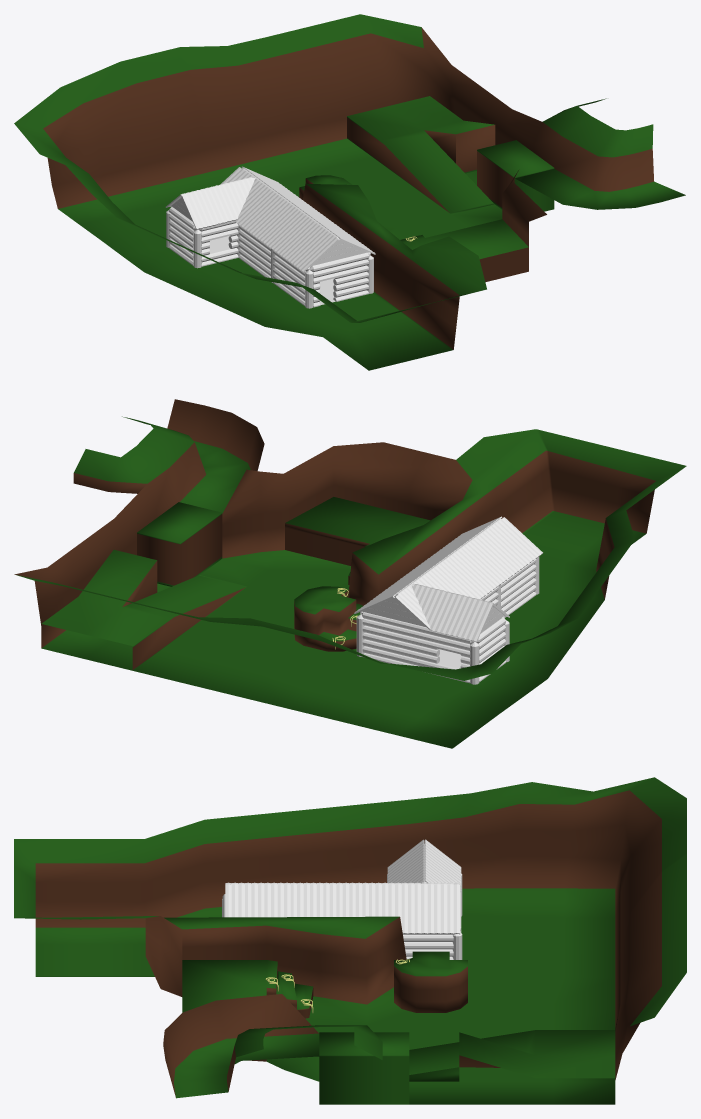
File: Lvl1_Map.fbx
The picture shows the model from 3 angles, top to bottom: view 1: azimuth 30°, elevation 25°; view 2: azimuth 150°, elevation 25°; view 3: azimuth 270°, elevation 25°; orthographic projection. The views are drawn at different scales.
Parts seen in each view (by area): view 1: Plane, Plane.002, Cube.002, Plane.003, Cube.020, Cube.003, Plane.001; view 2: Plane, Plane.002, Plane.003, Cube.002, Plane.004, Cube.026, Cube.003, Cylinder.040, Cylinder.034, Cylinder.049, Cylinder.022, Cylinder.028 (+1 smaller); view 3: Plane, Plane.002, Cube.003, Plane.003, Plane.004, Cube.026, Cube.020.
Boxes of the visible parts, x1,y1,x2,y2 form: Plane: (14,14,685,370); Plane.002: (347,96,554,214); Cube.002: (234,189,338,272); Plane.003: (400,219,528,282); Cube.020: (181,185,234,229); Cube.003: (241,166,375,254); Plane.001: (209,236,334,302); Plane: (14,399,686,748); Plane.002: (41,502,247,670); Plane.003: (285,497,430,584); Cube.002: (429,517,542,599); Plane.004: (294,586,362,651); Cube.026: (429,592,493,642); Cube.003: (354,516,502,613); Cylinder.040: (362,618,470,650); Cylinder.034: (362,625,470,657); Cylinder.049: (361,612,474,644); Cylinder.022: (362,639,470,668); Cylinder.028: (362,632,470,664); Plane: (14,777,686,1104); Plane.002: (319,1030,615,1104); Cube.003: (225,884,460,934); Plane.003: (182,960,313,1061); Plane.004: (394,951,467,1012); Cube.026: (424,839,461,891); Cube.020: (387,839,424,882).
Bounding box in the file's own units: 1525 × 324 × 1571.
